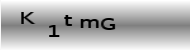1: (47, 24, 60, 38)
G: (100, 17, 115, 30)
K: (20, 11, 35, 25)
m: (79, 18, 99, 29)
t: (62, 13, 74, 27)
